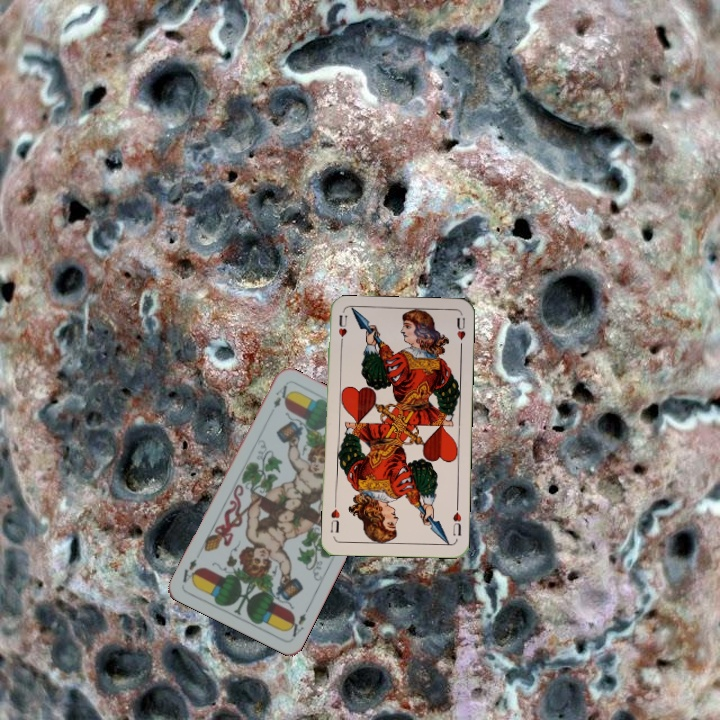EA: (283, 603, 312, 640), (265, 381, 290, 419)
HU: (334, 311, 349, 351), (449, 501, 464, 538)
